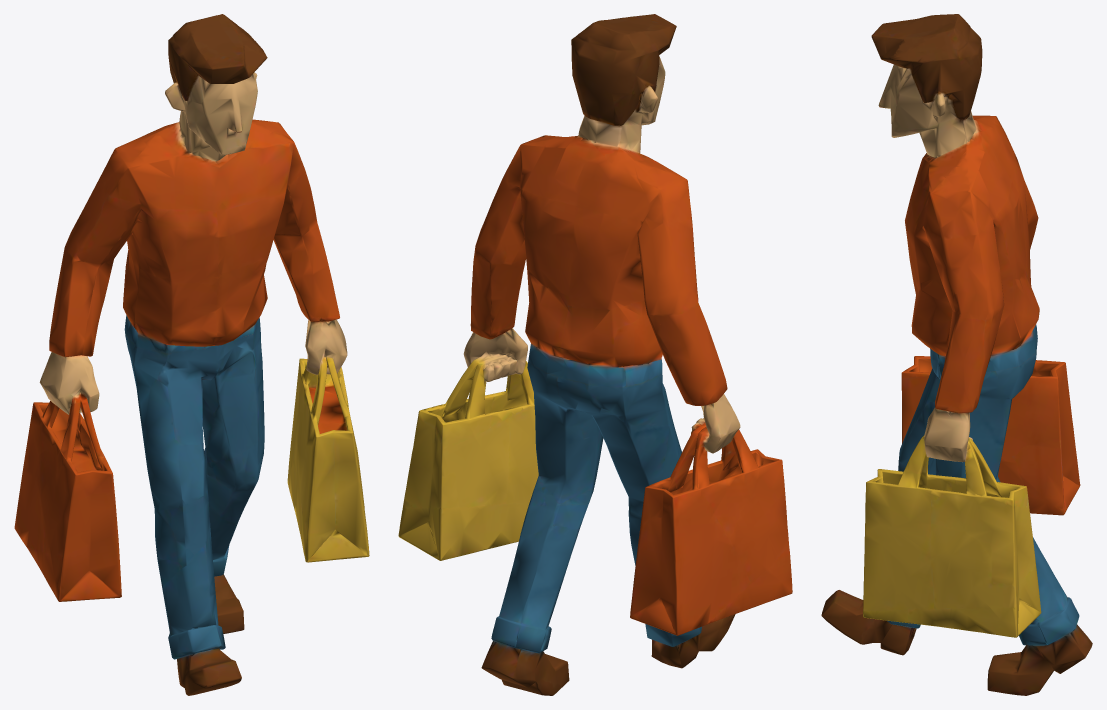
Rendered from przechodzien-m.glb.
3 views of the same model, side by side, from view 1: azimuth 30°, elevation 25°; view 2: azimuth 150°, elevation 25°; view 3: azimuth 270°, elevation 25° (orthographic).
Visible parts, largest first — view 1: tripo_node_360e0844-8614-48fe-80c8-b079729460a3; view 2: tripo_node_360e0844-8614-48fe-80c8-b079729460a3; view 3: tripo_node_360e0844-8614-48fe-80c8-b079729460a3.
Part boxes in pixels (x1,y1,x2,y2): tripo_node_360e0844-8614-48fe-80c8-b079729460a3: (14,14,369,695); tripo_node_360e0844-8614-48fe-80c8-b079729460a3: (398,14,792,695); tripo_node_360e0844-8614-48fe-80c8-b079729460a3: (821,14,1092,695).
Bounding box in the file's own units: 0.5496 × 0.9804 × 0.3736.
Materials: 1 (1 with a texture image).
